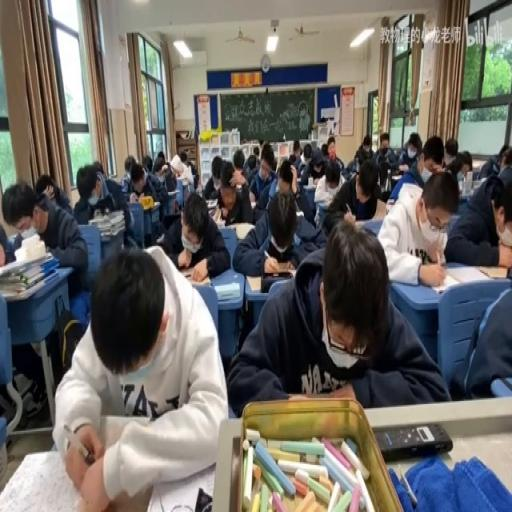calculator: (0, 449, 90, 512), (147, 465, 218, 512), (423, 270, 459, 292), (178, 262, 207, 283), (214, 282, 240, 300), (477, 264, 509, 278), (368, 196, 387, 219), (232, 222, 255, 240), (355, 218, 382, 230), (300, 181, 315, 199), (19, 226, 38, 239), (245, 276, 261, 291), (390, 170, 402, 190), (210, 205, 224, 222), (181, 180, 190, 204), (470, 176, 485, 190), (220, 222, 235, 232), (204, 196, 218, 206), (457, 174, 464, 194), (153, 174, 165, 184), (294, 209, 302, 219), (149, 198, 159, 206), (156, 232, 163, 243), (386, 196, 394, 205), (249, 199, 256, 208), (312, 178, 319, 186)
paper: (54, 240, 228, 508), (227, 218, 446, 420), (2, 176, 86, 416), (379, 168, 459, 286), (452, 282, 512, 402), (443, 165, 512, 266), (160, 188, 230, 282), (71, 163, 128, 249), (121, 156, 169, 238), (326, 155, 382, 220), (272, 158, 317, 225), (247, 144, 277, 212), (36, 170, 72, 214), (477, 144, 510, 179), (202, 154, 225, 199), (419, 136, 445, 175), (397, 131, 421, 171), (320, 206, 346, 235), (0, 218, 17, 262), (351, 134, 374, 166), (324, 138, 343, 172), (376, 159, 390, 191), (444, 137, 458, 165), (186, 158, 198, 189), (339, 155, 353, 181), (96, 171, 109, 199), (130, 168, 144, 193), (458, 150, 471, 176), (152, 150, 166, 174), (162, 170, 176, 194), (325, 168, 340, 190), (310, 148, 324, 171), (233, 152, 244, 172), (244, 154, 256, 172), (118, 174, 130, 192), (124, 155, 134, 176), (378, 138, 389, 155), (142, 154, 152, 172), (93, 161, 104, 176), (287, 154, 296, 168), (321, 142, 329, 156), (505, 155, 512, 170), (304, 145, 310, 162), (271, 155, 277, 171), (252, 144, 259, 156), (180, 150, 186, 164)
person: (374, 420, 452, 460), (261, 273, 294, 293), (265, 260, 293, 276), (173, 199, 179, 213)
